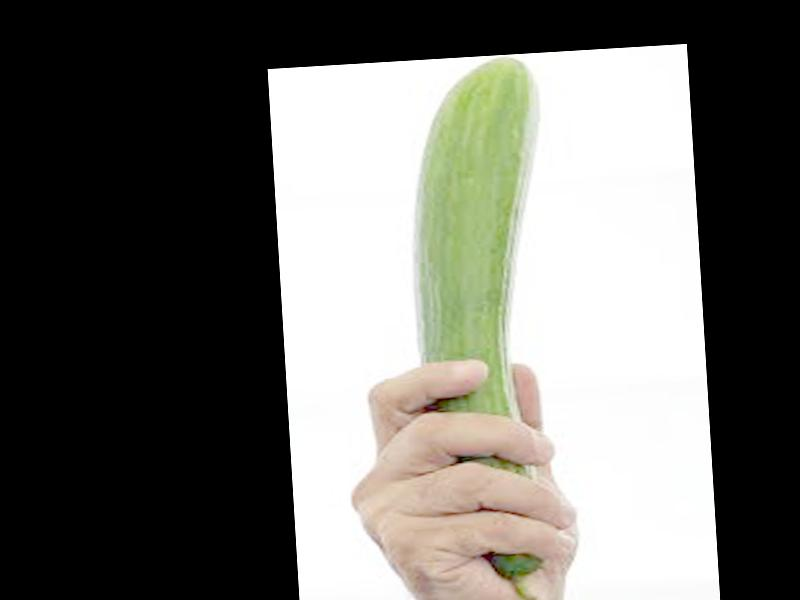Cucumber: (402, 52, 571, 600)
